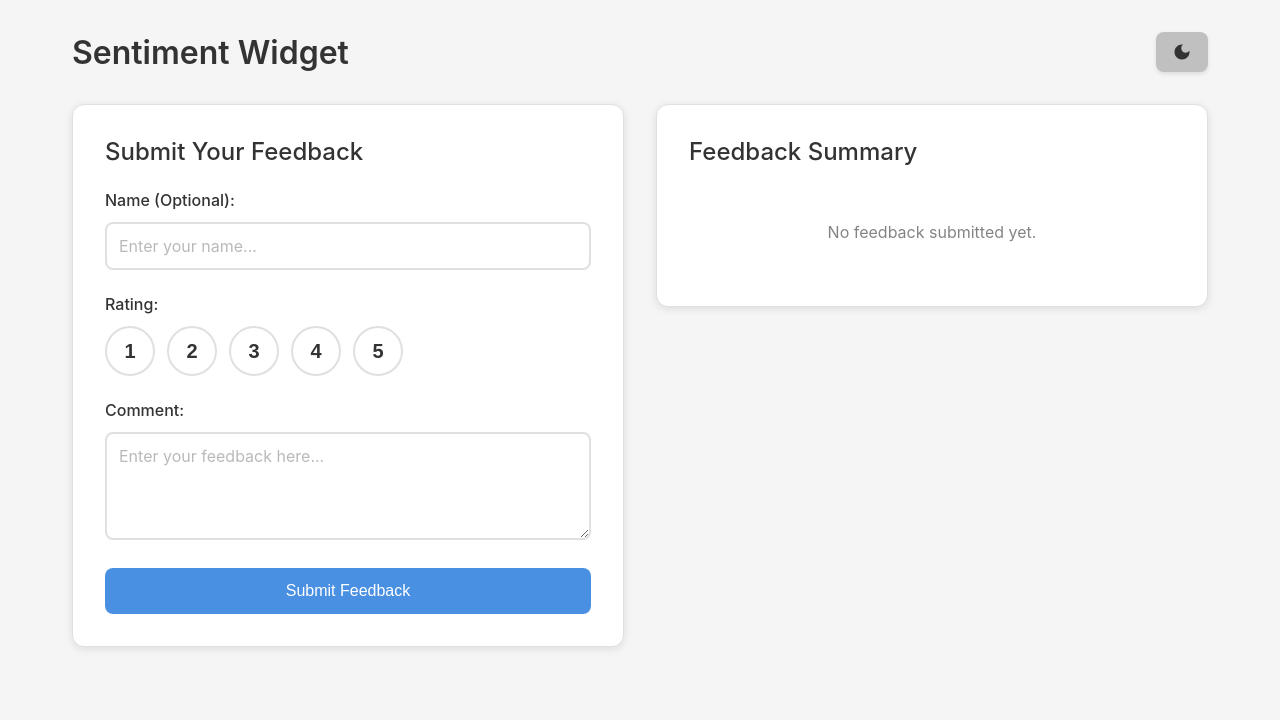
it: App Integration Tests › submits feedback successfully with rating and comment
// Enter name
Type "John Doe" into the field with placeholder "Enter your name..." at x=348, y=246, box [105,222,591,270]
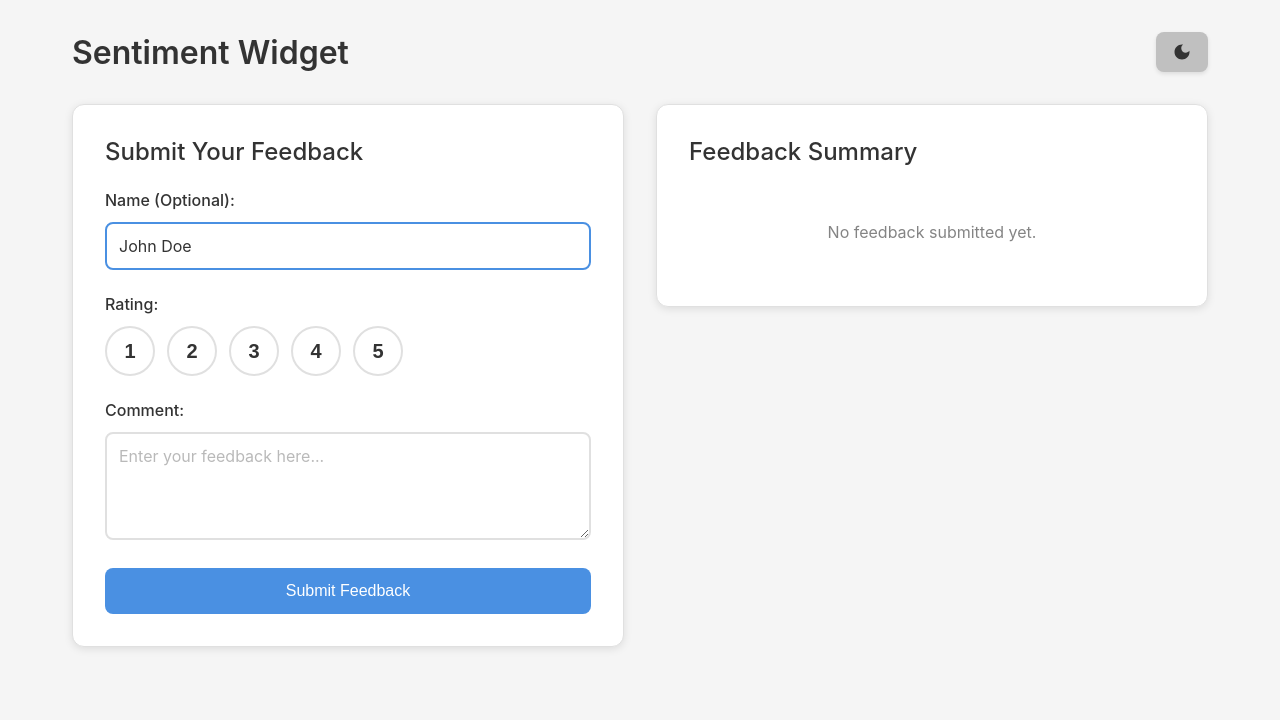
// Select rating
Click the button named "Rating 5" at x=378, y=351, box [353,326,403,376]
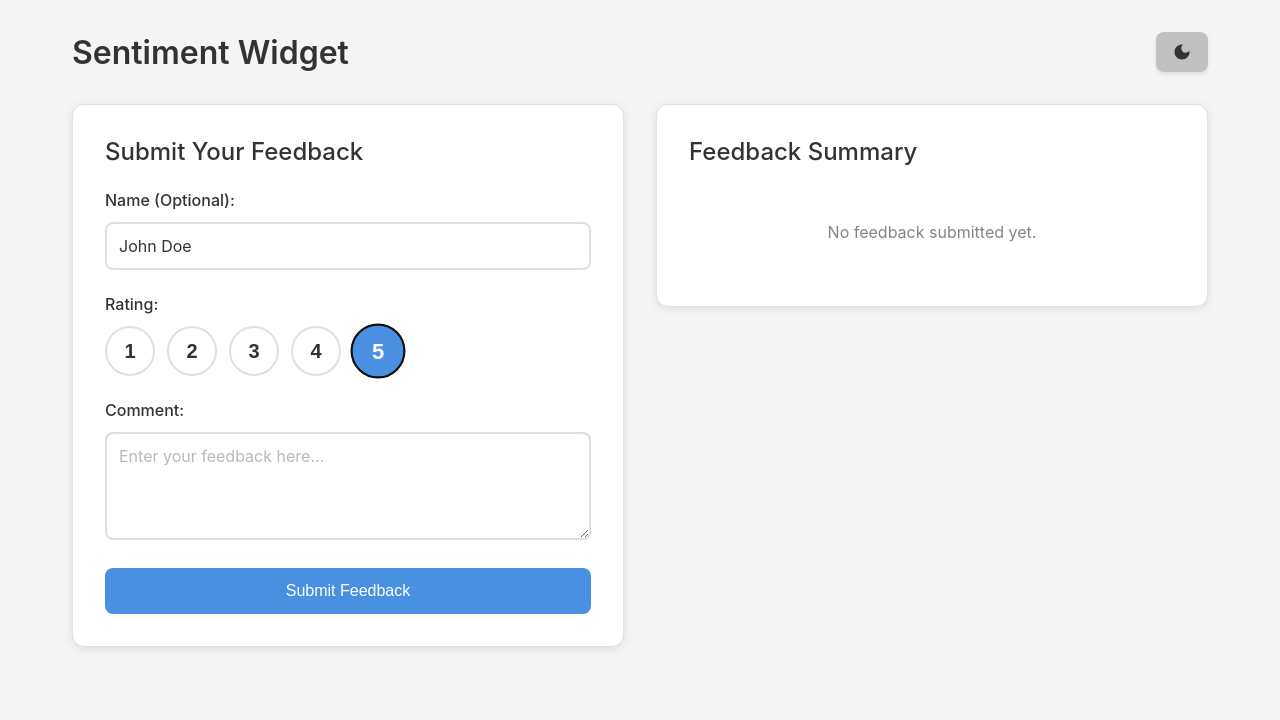
// Enter comment
Type "Great experience!" into the text box with placeholder "Enter your feedback here..." at x=348, y=486, box [105,432,591,540]
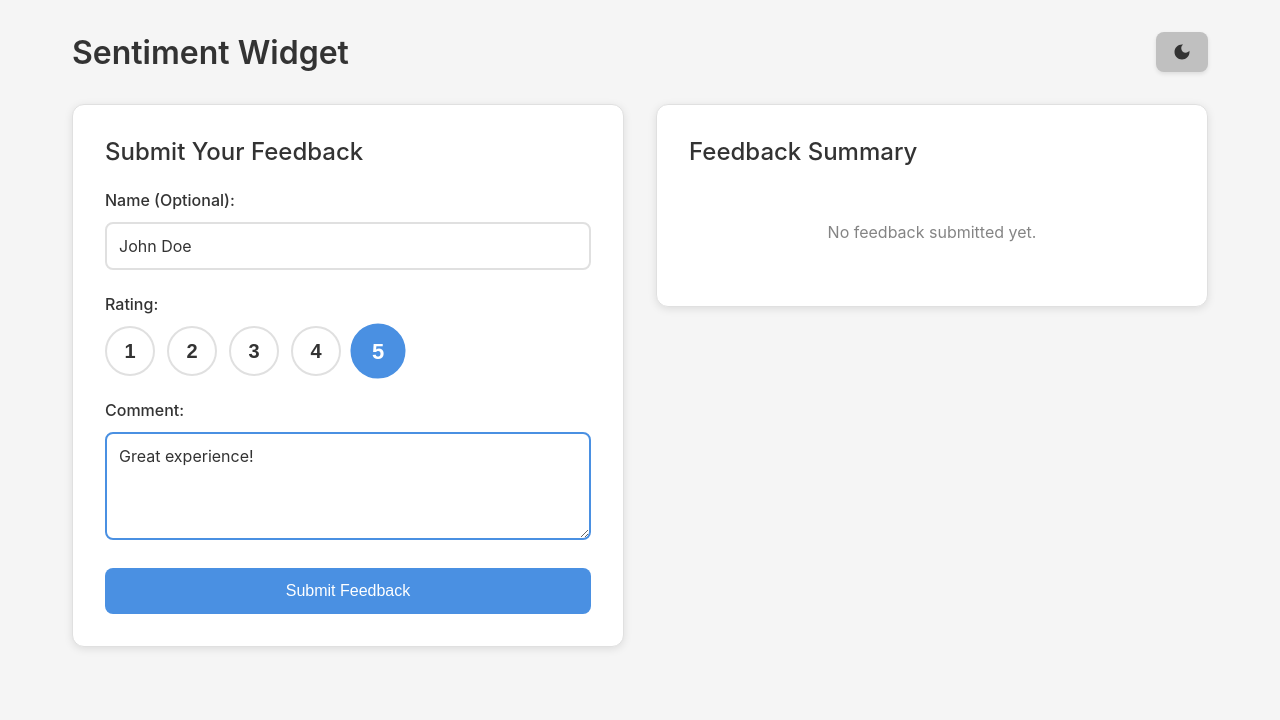
Click the button "Submit Feedback" at x=348, y=591, box [105,568,591,614]
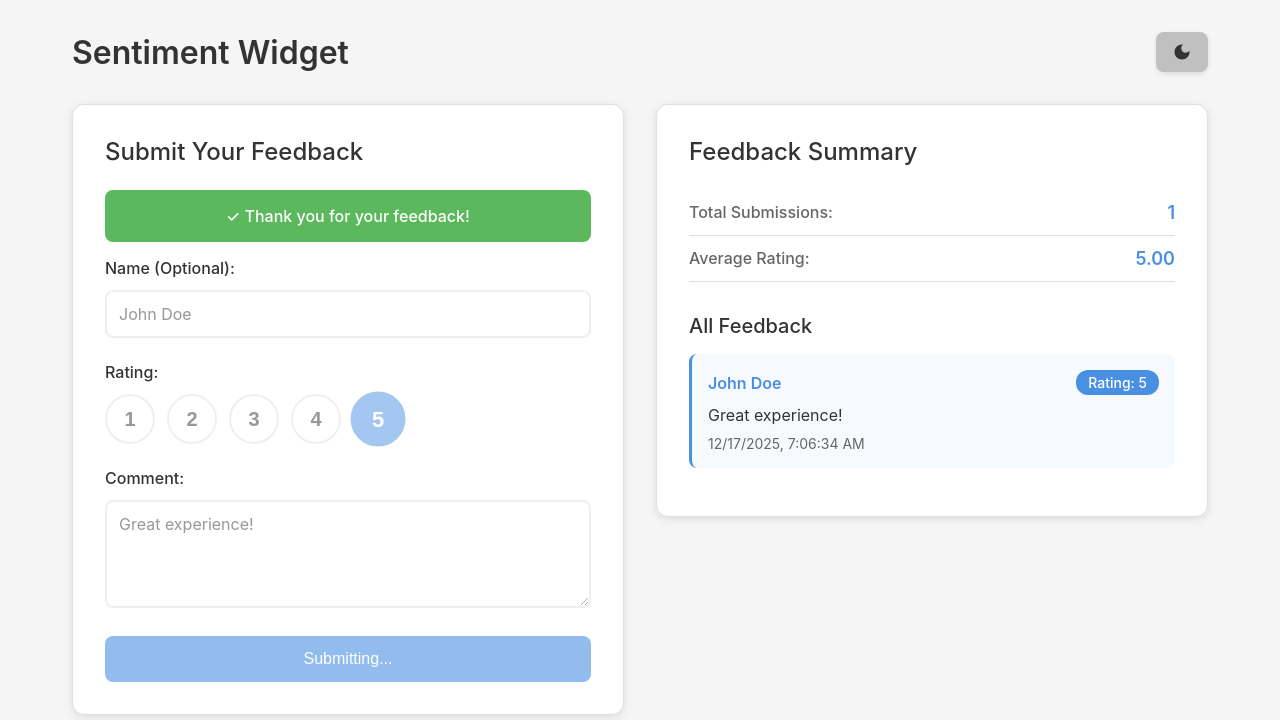
Now the text "✓ Thank you for your feedback!" is shown, box [105,190,591,242]
Now the text "Total Submissions:" is shown, box [689,202,833,223]
Now the text "5.00" is shown, box [1135,248,1175,269]
